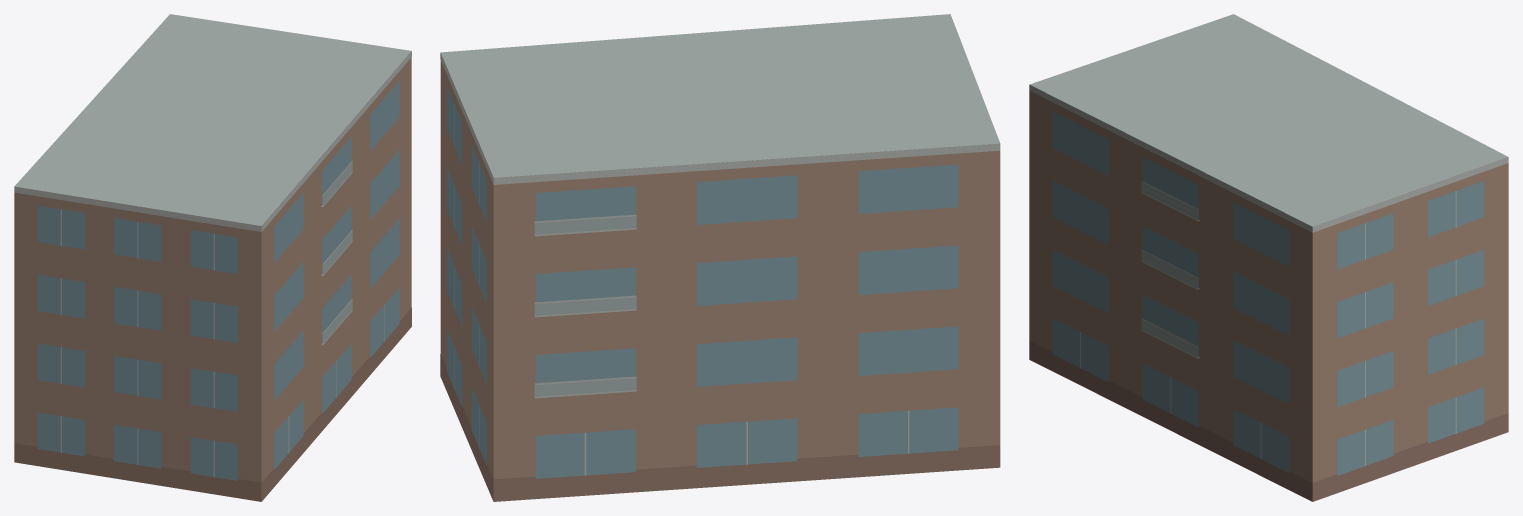
Rendered from survey-upis-32777094.glb.
3 renders of one model, left to right at view 1: azimuth 30°, elevation 25°; view 2: azimuth 150°, elevation 25°; view 3: azimuth 270°, elevation 25°, orthographic. The views are drawn at different scales.
Parts seen in each view (by area): view 1: survey-upis-32777094.tmp; view 2: survey-upis-32777094.tmp; view 3: survey-upis-32777094.tmp.
Part boxes in pixels (left/top/right/bottom): survey-upis-32777094.tmp: left=14, top=14, right=411, bottom=501; survey-upis-32777094.tmp: left=440, top=14, right=1000, bottom=501; survey-upis-32777094.tmp: left=1029, top=14, right=1508, bottom=501.
Size of the model in its own units: 18.59 by 11.2 by 17.69.
